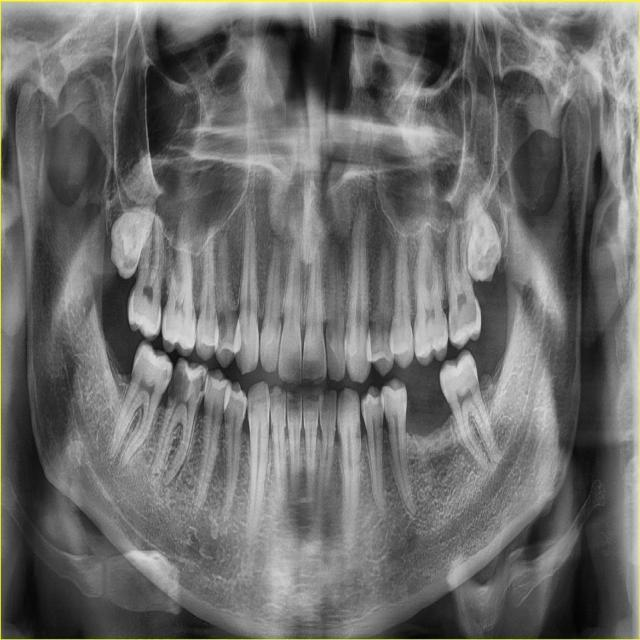Sterngold Implant: (164, 355, 197, 415), (188, 366, 209, 405), (216, 311, 228, 346), (160, 366, 173, 393), (448, 313, 459, 336), (427, 331, 439, 349), (133, 345, 144, 364), (443, 318, 450, 338), (360, 402, 368, 418), (470, 358, 477, 373), (377, 399, 384, 414), (402, 392, 407, 407), (413, 336, 418, 349)
